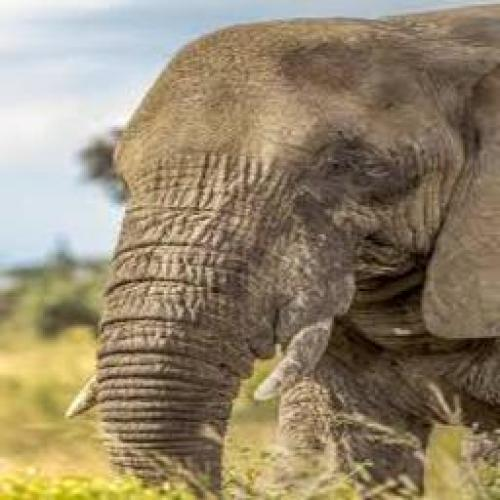lion-endangered: (63, 4, 500, 488)
